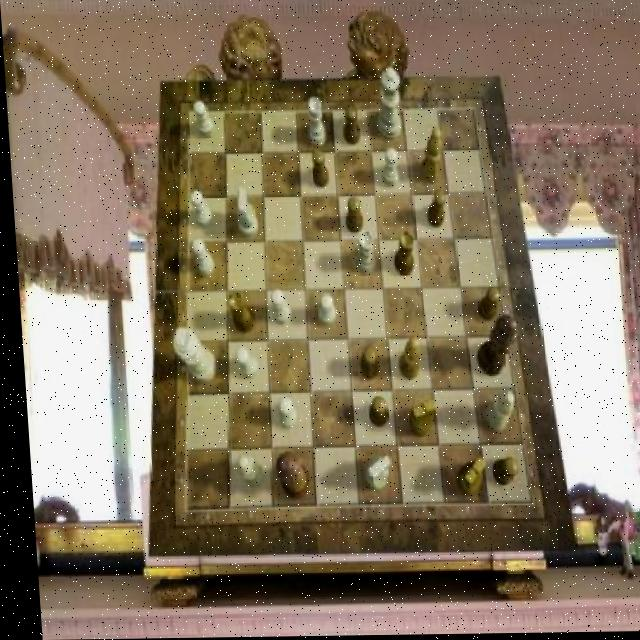bishop: (417, 129, 442, 185), (392, 337, 417, 381)
black-bishop: (471, 315, 517, 378)
black-king: (449, 458, 482, 497), (403, 400, 432, 438)
black-knight: (472, 287, 497, 321), (423, 190, 445, 228), (484, 459, 513, 487), (340, 107, 359, 147), (341, 198, 361, 235), (308, 152, 327, 189), (354, 346, 373, 381), (363, 397, 383, 429)
black-pawn: (268, 454, 304, 502)
black-queen: (223, 293, 252, 334), (389, 231, 413, 276)
black-rook: (479, 393, 511, 433), (232, 453, 260, 487)
white-bishop: (168, 327, 213, 384)
white-king: (232, 188, 255, 237), (358, 456, 386, 491)
white-knight: (187, 190, 211, 228), (190, 239, 212, 277), (191, 101, 213, 139), (266, 289, 288, 326), (231, 348, 255, 381), (379, 149, 398, 188), (272, 398, 293, 431), (313, 295, 332, 327)
white-pawn: (373, 69, 403, 142)
white-queen: (352, 231, 375, 276), (304, 98, 325, 147)
